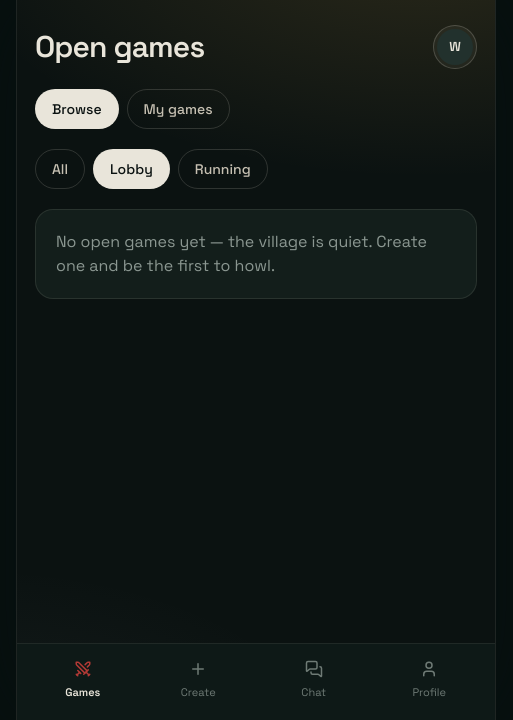
Scenario: creating a game continues into its lobby and loads the owner's share panel
Check: the heading "Open games" is shown, box [35, 24, 204, 69]
Step 1. Click the button "Create" → (198, 680), box [140, 652, 256, 708]
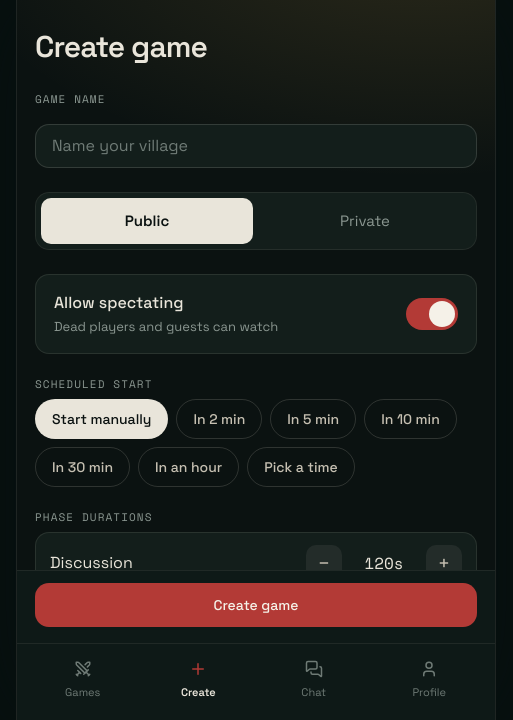
Step 2. Type "Moonrise" into the field labelled "Game name" → (256, 146), box [35, 124, 477, 168]
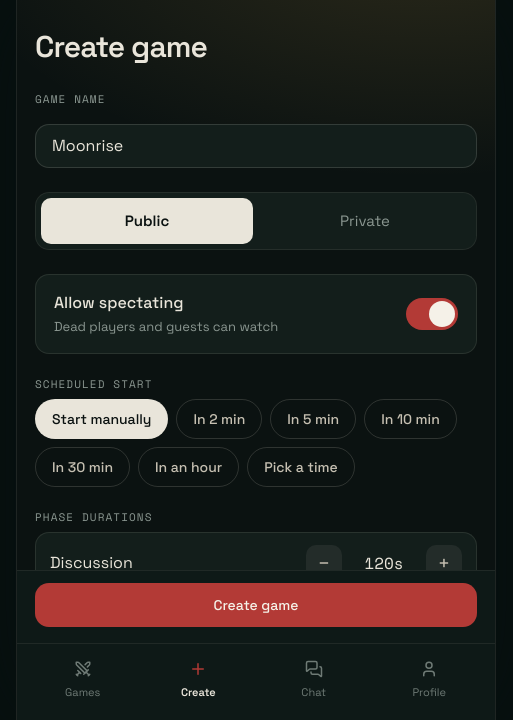
Step 3. Click the button "Create game" → (256, 605), box [35, 583, 477, 627]
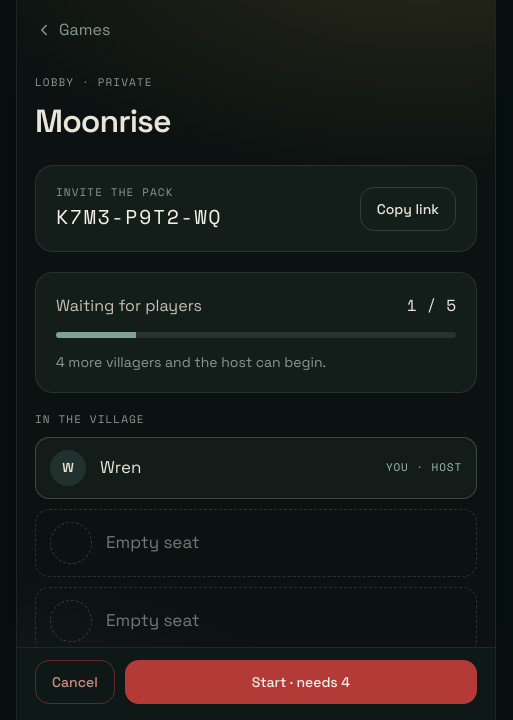
Check: the heading "Moonrise" is shown, box [35, 101, 171, 141]
Check: the text "K7M3-P9T2-WQ" is shown, box [56, 203, 222, 231]
